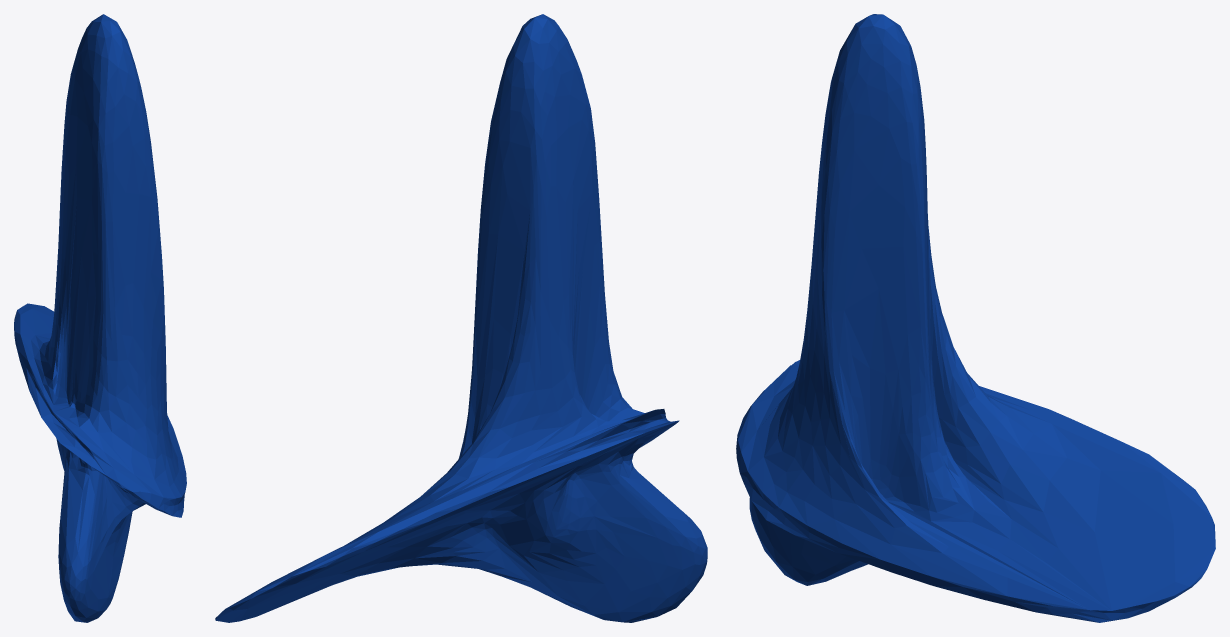
3 renders of one model, left to right at view 1: azimuth 30°, elevation 25°; view 2: azimuth 150°, elevation 25°; view 3: azimuth 270°, elevation 25°, orthographic. The views are drawn at different scales.
Visible parts, largest first — view 1: 034_Cube.145; view 2: 034_Cube.145; view 3: 034_Cube.145.
Part boxes in pixels (x1=…): 034_Cube.145: x1=14, y1=14, x2=186, y2=622; 034_Cube.145: x1=215, y1=14, x2=707, y2=622; 034_Cube.145: x1=736, y1=14, x2=1215, y2=622.
Bounding box in the file's own units: 6.35 × 13.39 × 9.86.
